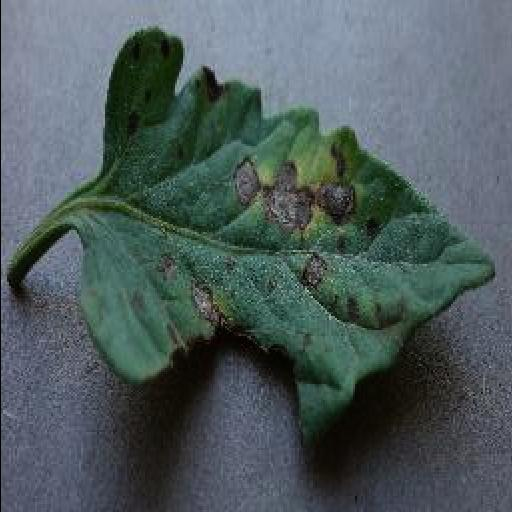disease_tomato: (75, 30, 497, 447)
